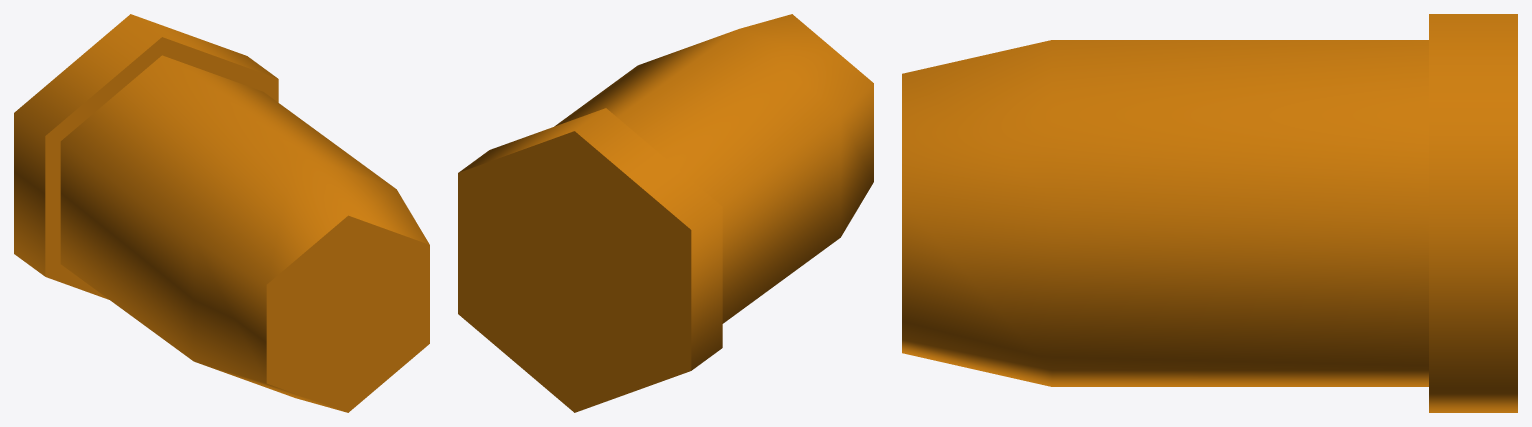
Rendered from Gilza.fbx.
3 views of the same model, side by side, from view 1: azimuth 30°, elevation 25°; view 2: azimuth 150°, elevation 25°; view 3: azimuth 270°, elevation 25° (orthographic). The views are drawn at different scales.
Parts seen in each view (by area): view 1: Gilza; view 2: Gilza; view 3: Gilza.
Part boxes in pixels (box(x1,y1,x2,y2)): Gilza: box(14, 14, 429, 412); Gilza: box(458, 14, 873, 412); Gilza: box(902, 14, 1517, 412).
Size of the model in its own units: 10.21 by 16.5 by 11.79.
